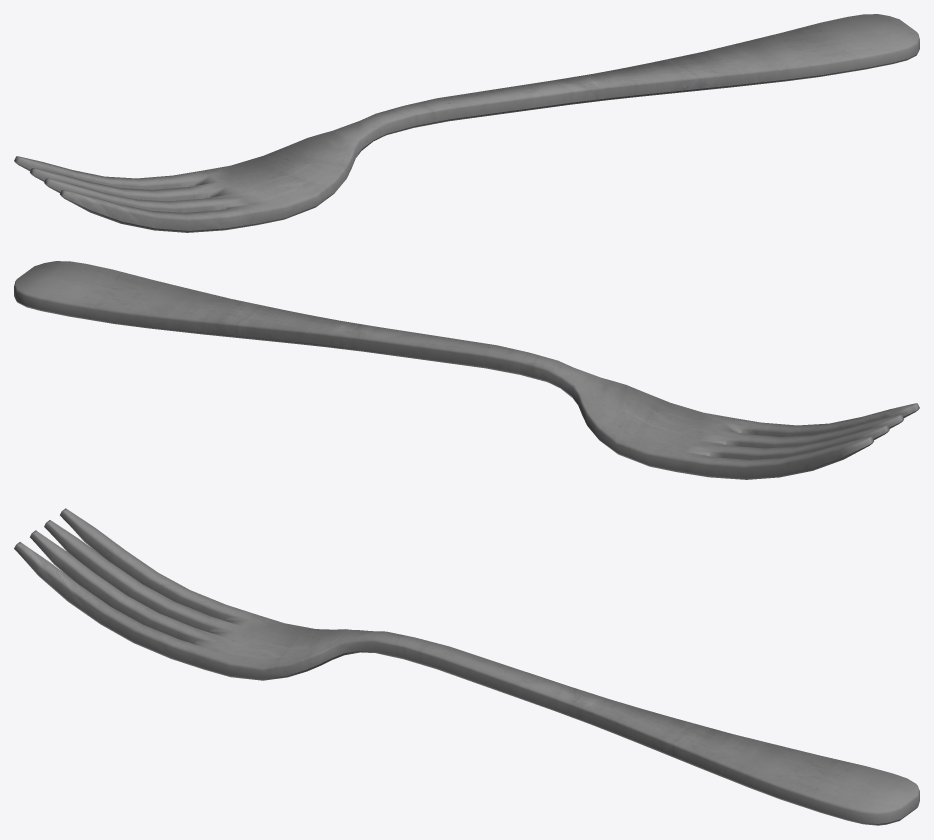
The model's file is fork.gltf.
3 renders of one model, top to bottom at view 1: azimuth 30°, elevation 25°; view 2: azimuth 150°, elevation 25°; view 3: azimuth 330°, elevation 25°, orthographic.
Parts seen in each view (by area): view 1: SM_Fork; view 2: SM_Fork; view 3: SM_Fork.
Part boxes in pixels (left/top/right/bottom): SM_Fork: left=14, top=14, right=919, bottom=232; SM_Fork: left=14, top=261, right=919, bottom=479; SM_Fork: left=14, top=508, right=919, bottom=825.
Size of the model in its own units: 0.1743 by 0.015 by 0.0196.
1 material, 1 textured.
